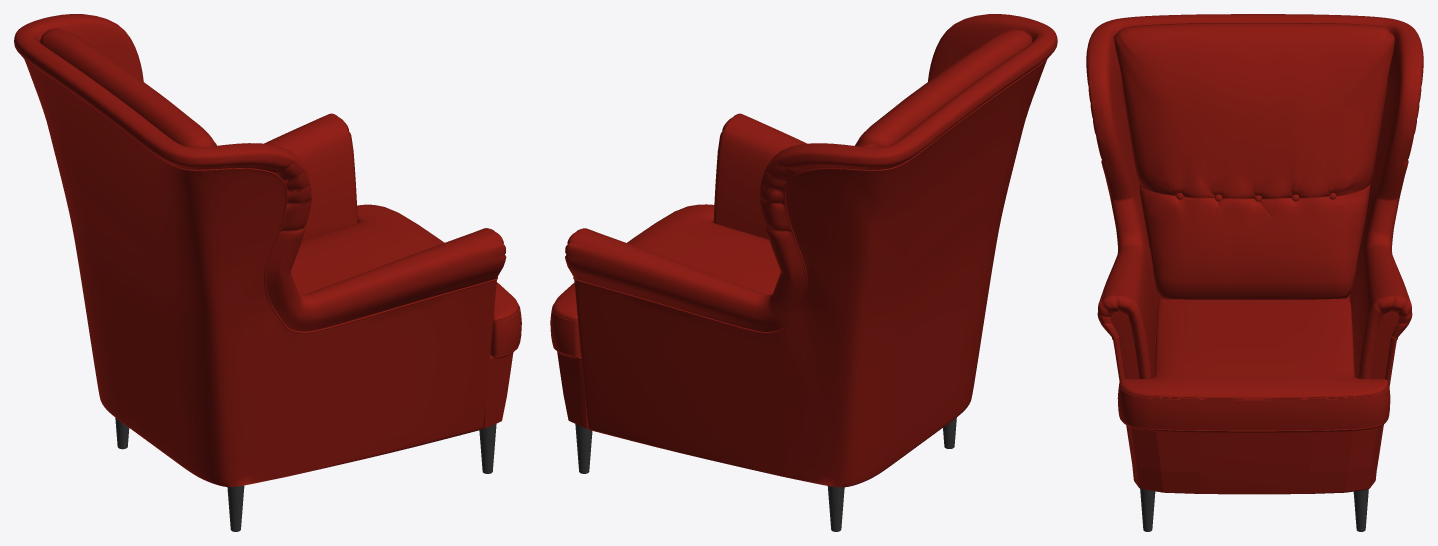
The model's file is Strandmon_LOW.fbx.
3 renders of one model, left to right at view 1: azimuth 30°, elevation 25°; view 2: azimuth 150°, elevation 25°; view 3: azimuth 270°, elevation 25°, orthographic. The views are drawn at different scales.
Visible parts, largest first — view 1: Line008, Box005, Box006, Cylinder002, Plane002, Shape002; view 2: Line008, Box005, Box006, Cylinder002, Plane002, Shape002; view 3: Box006, Box005, Line008, Plane002, Line009, Cylinder002, Line010.
Boxes of the visible parts, x1,y1,x2,y2 form: Line008: (14, 14, 506, 486); Box005: (290, 204, 521, 358); Box006: (39, 28, 216, 147); Cylinder002: (115, 418, 496, 531); Plane002: (483, 353, 513, 428); Shape002: (23, 57, 497, 333); Line008: (565, 14, 1057, 487); Box005: (550, 204, 780, 358); Box006: (855, 28, 1032, 147); Cylinder002: (575, 417, 956, 531); Plane002: (557, 351, 588, 428); Shape002: (573, 57, 1048, 333); Box006: (1114, 23, 1394, 299); Box005: (1117, 296, 1390, 432); Line008: (1086, 14, 1423, 467); Plane002: (1127, 426, 1381, 494); Line009: (1370, 311, 1399, 379); Cylinder002: (1140, 488, 1368, 531); Line010: (1110, 311, 1139, 379).
Size of the model in its own units: 965 by 1040 by 848.
